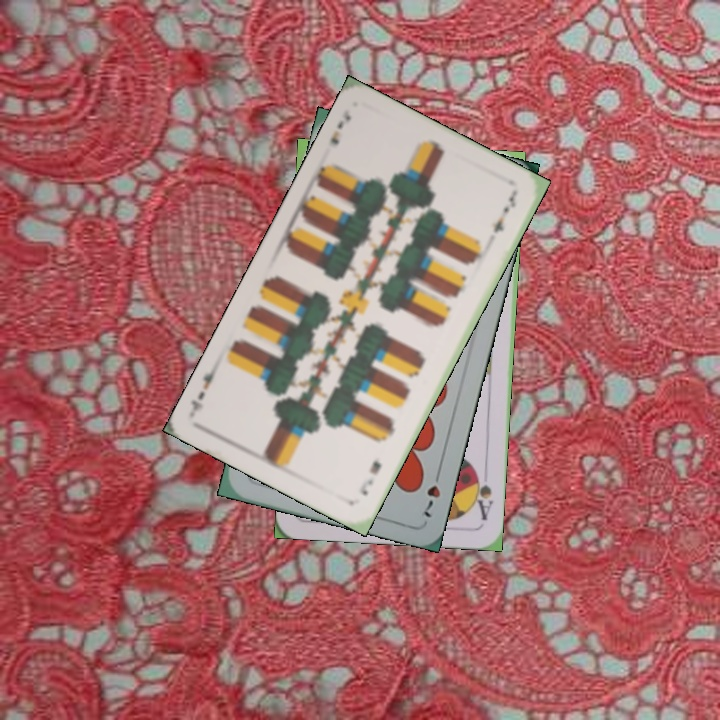E7: (355, 456, 385, 498), (326, 105, 354, 148)
H7: (419, 464, 444, 521)
SA: (469, 464, 495, 523)
